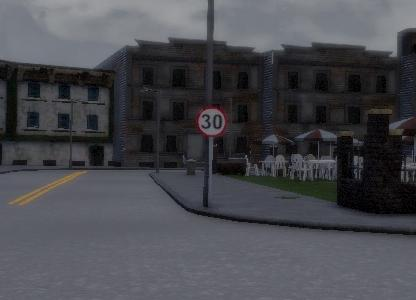Speed_30: (197, 104, 228, 141)
